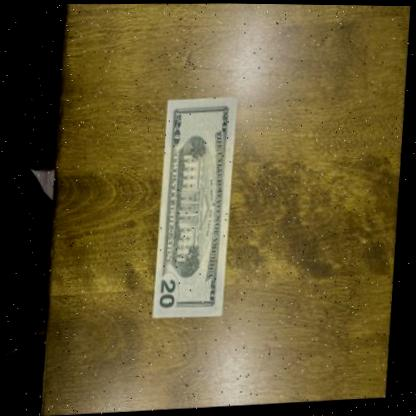twenty-back: (152, 97, 242, 322)
